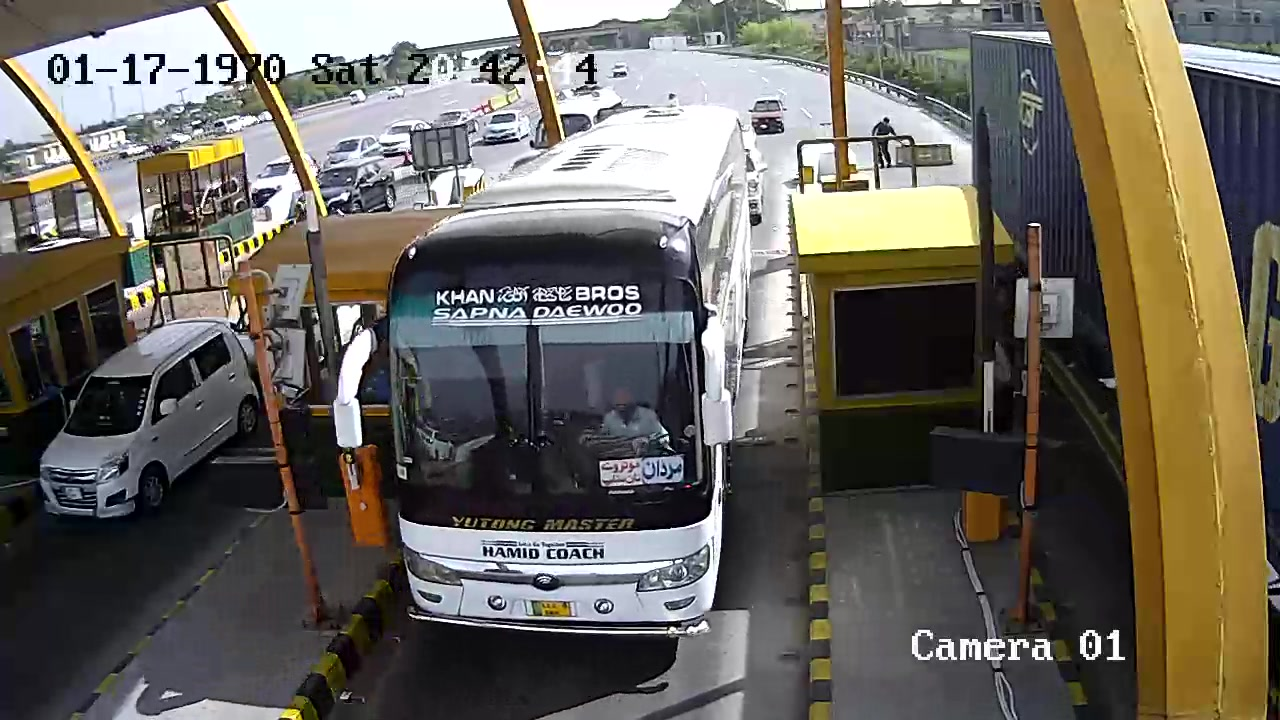F4: (382, 101, 757, 640)
